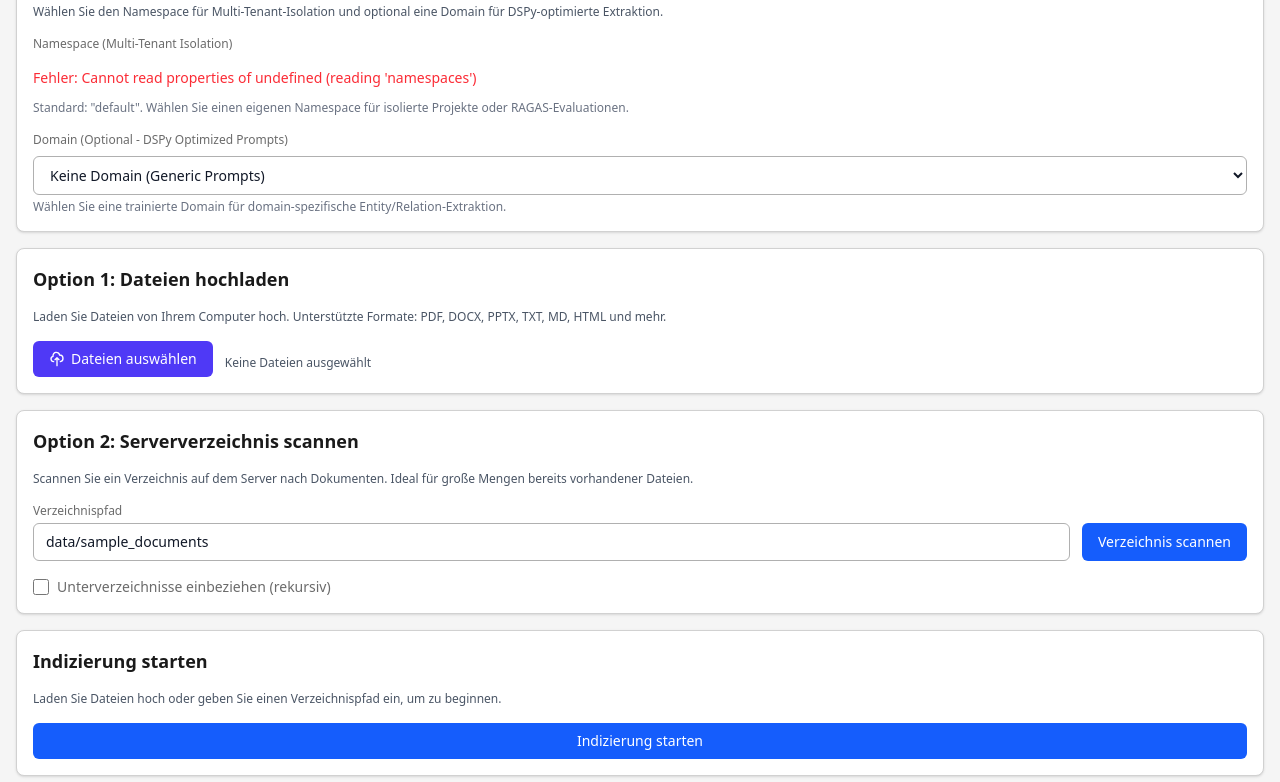
Test: AdminIndexingPage › directory scanning › should display error message on scan failure
(page scrolled)
Step 1. Type "/invalid/path" into the field with test id "directory-input" → (552,542), box [33, 523, 1070, 561]
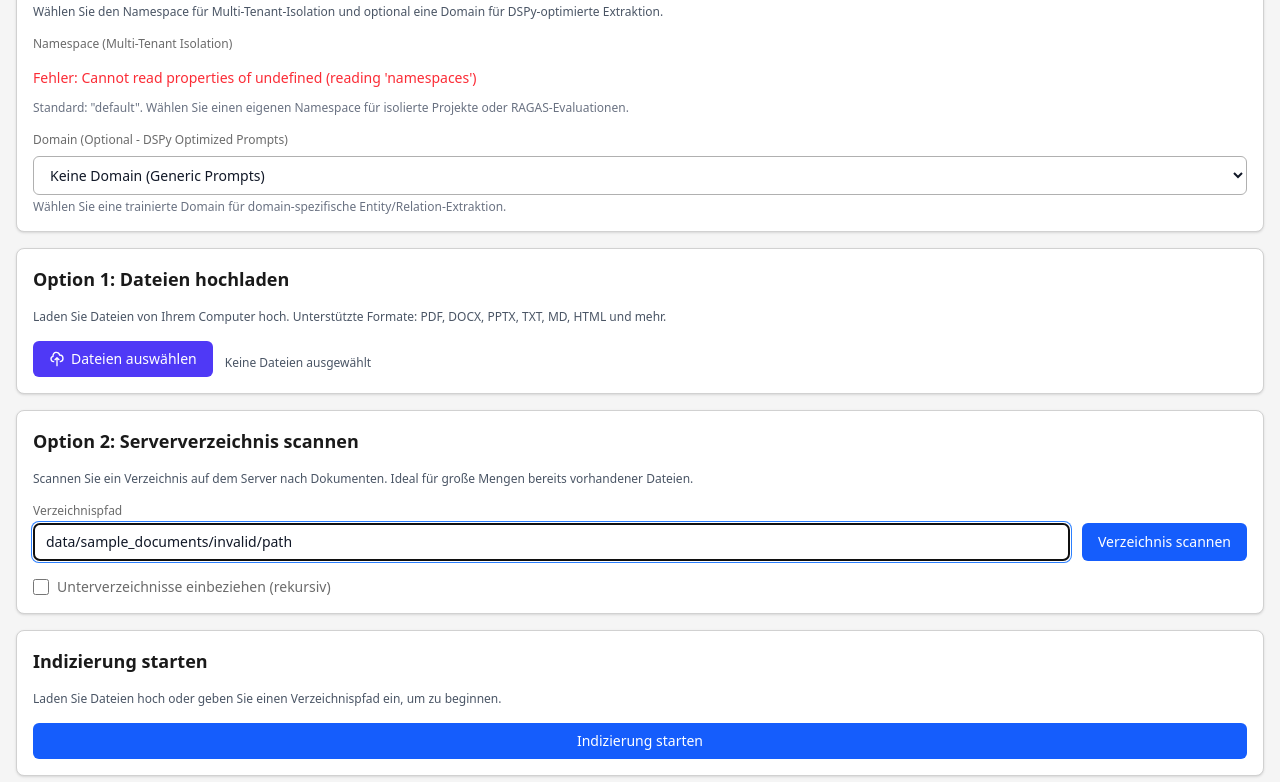
Step 2. Click the button with test id "scan-directory" → (1164,542), box [1082, 523, 1247, 561]
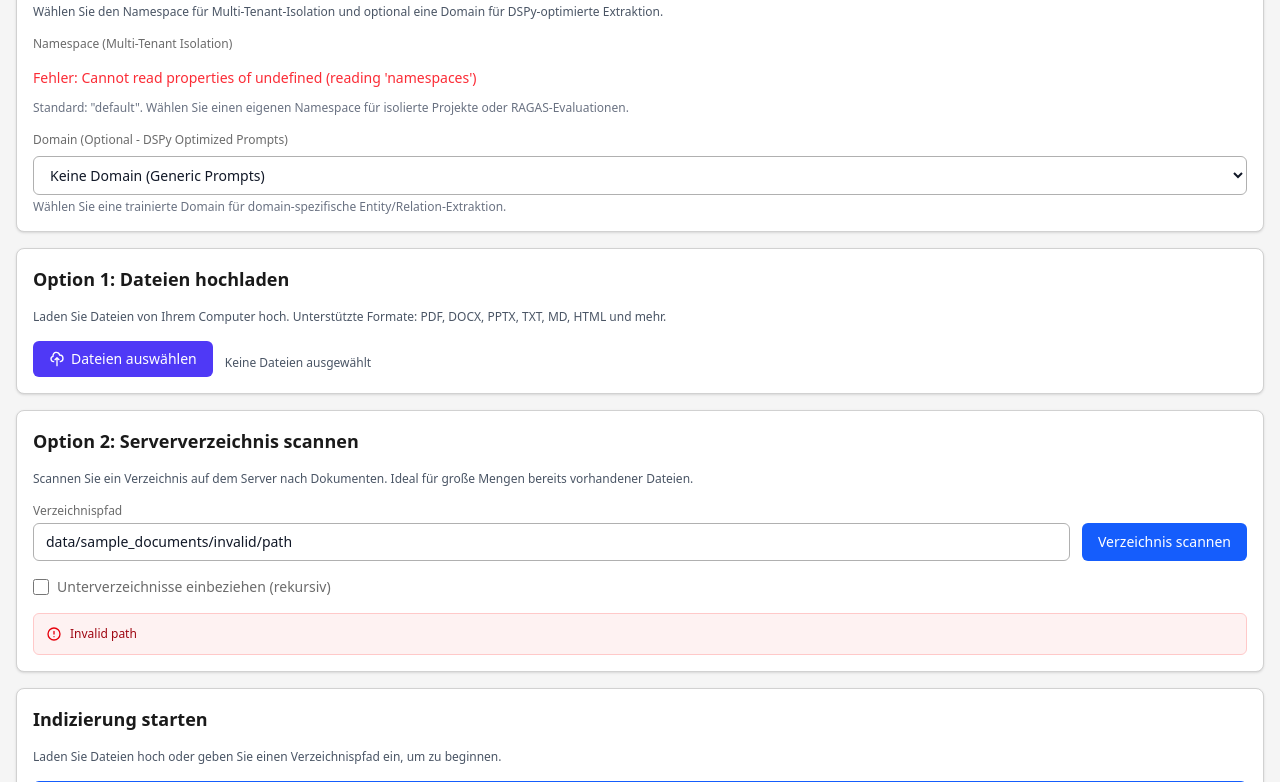
Check: the element with test id "scan-error" is shown, box [33, 613, 1247, 655]
Check: the text "Invalid path" is shown, box [70, 626, 137, 642]
